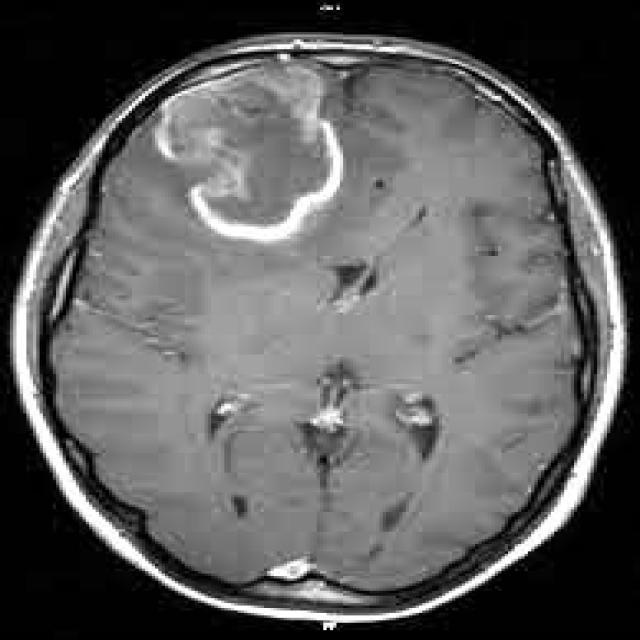brain tumor: (155, 64, 340, 239)
